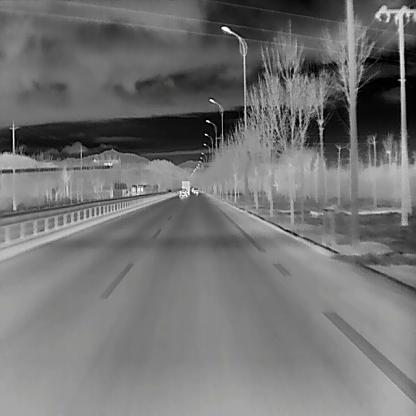car: (181, 180, 190, 195), (178, 187, 188, 198), (193, 187, 198, 194)
